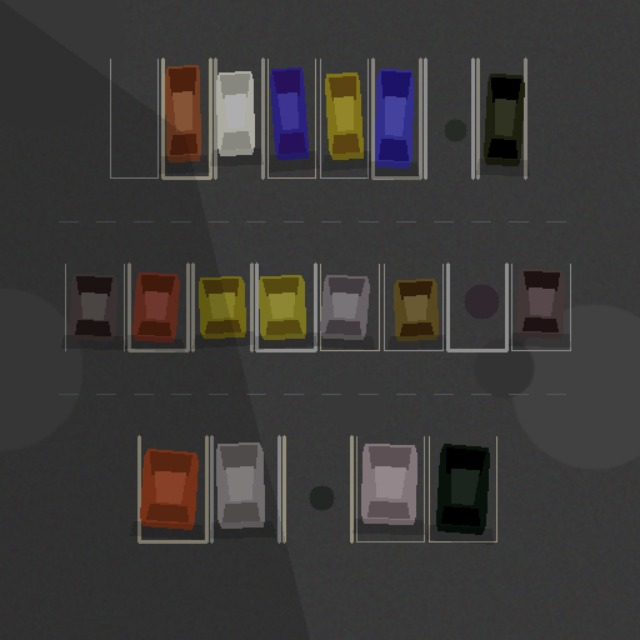space-empty: (284, 436, 351, 541), (425, 59, 473, 177), (110, 59, 157, 177), (447, 264, 506, 350)
space-occupied: (211, 436, 279, 541), (356, 436, 424, 541), (139, 436, 206, 541), (429, 436, 496, 541), (215, 59, 263, 177), (267, 59, 315, 177), (477, 59, 525, 177), (163, 59, 210, 177), (320, 59, 367, 177), (373, 59, 420, 177), (65, 264, 124, 350), (256, 264, 315, 350), (320, 264, 379, 350), (384, 264, 443, 350), (511, 264, 570, 350), (129, 264, 187, 350), (193, 264, 251, 350)
